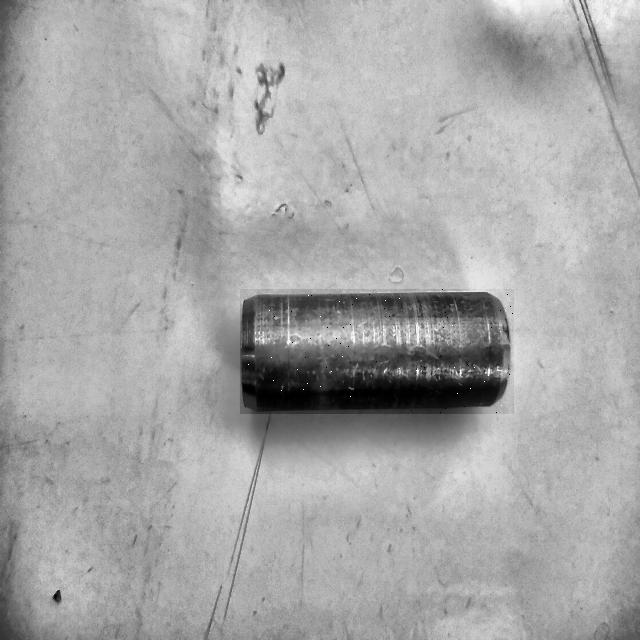Broken: (240, 289, 514, 414)
